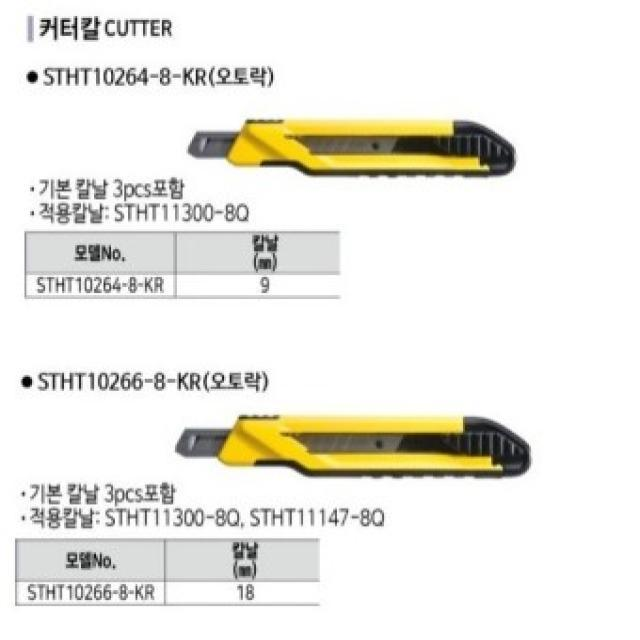cutter: (167, 392, 544, 492), (178, 98, 526, 190)
